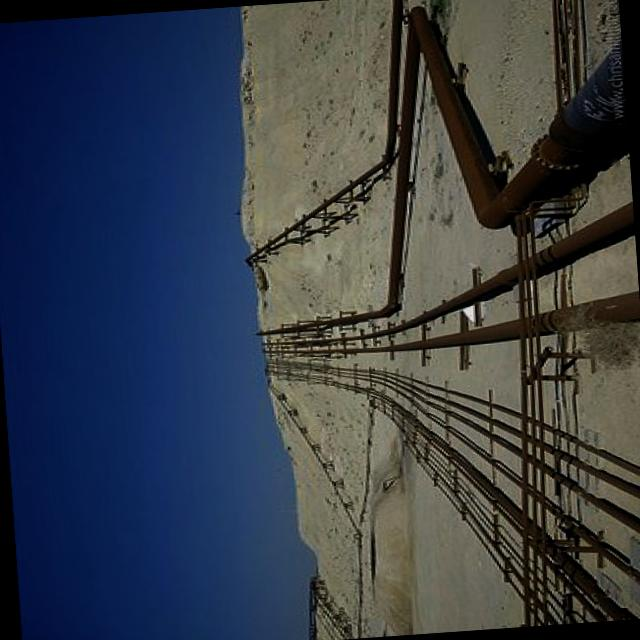gas: (267, 359, 640, 626), (289, 202, 635, 342), (410, 6, 627, 227), (270, 290, 640, 354), (381, 20, 416, 311)
